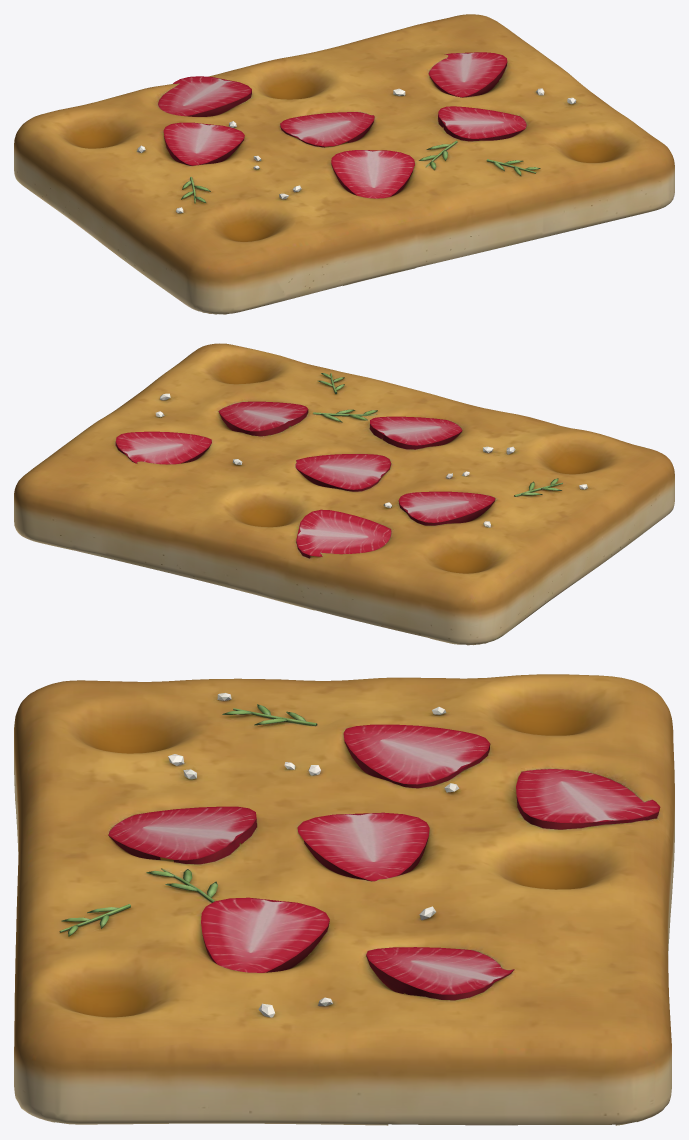
The model's file is focaccia--strawberry-roasted.glb.
The picture shows the model from 3 angles, top to bottom: view 1: azimuth 30°, elevation 25°; view 2: azimuth 150°, elevation 25°; view 3: azimuth 270°, elevation 25°; orthographic projection. The views are drawn at different scales.
Parts seen in each view (by area): view 1: focaccia_strawberry-roasted; view 2: focaccia_strawberry-roasted; view 3: focaccia_strawberry-roasted.
Part boxes in pixels (<box>): focaccia_strawberry-roasted: <box>14,14,674,314</box>; focaccia_strawberry-roasted: <box>14,343,674,645</box>; focaccia_strawberry-roasted: <box>14,674,674,1125</box>.
Size of the model in its own units: 1.01 by 0.127 by 0.7441.
Materials: 1 (1 with a texture image).
